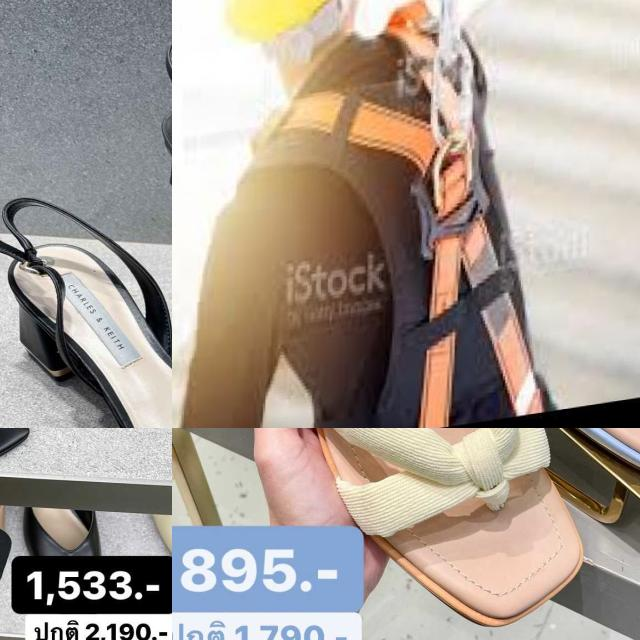Harness: (264, 0, 546, 427)
Sandals: (185, 428, 598, 630), (0, 164, 172, 428), (122, 9, 172, 428), (0, 428, 36, 637)
